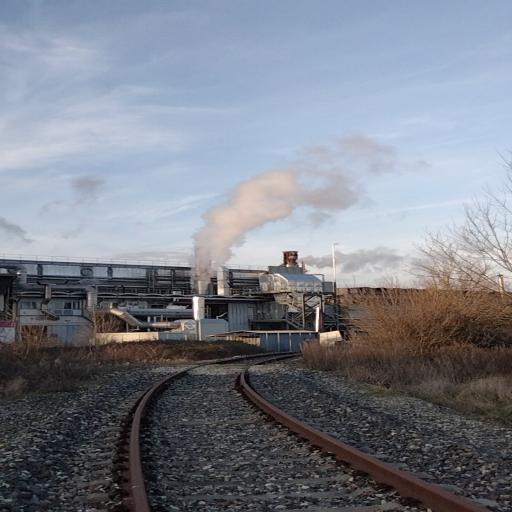leakage: (178, 134, 456, 302), (264, 245, 420, 277)
